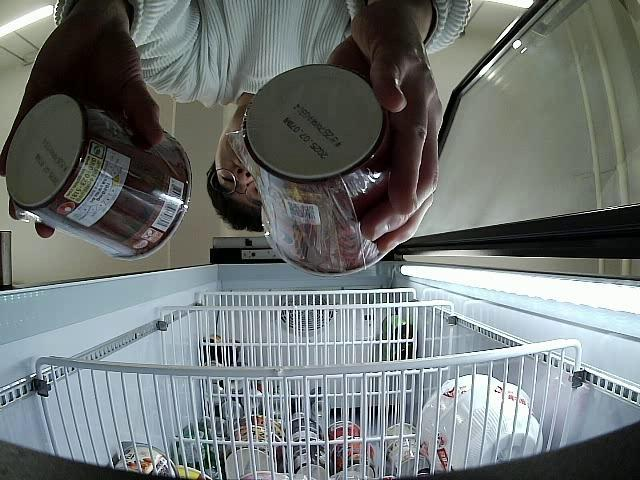06_nuguri_S: (245, 64, 398, 274), (6, 94, 192, 262)
